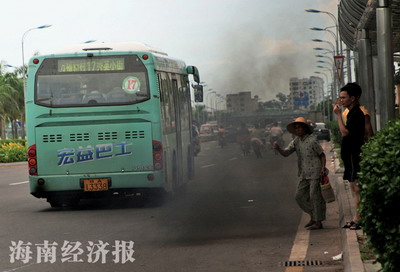smoke: (166, 170, 286, 246)
